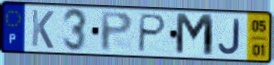3: (61, 6, 89, 55)
J: (217, 17, 242, 56)
K: (30, 8, 56, 51)
M: (175, 12, 216, 59)
P: (99, 11, 135, 54), (136, 13, 169, 54)
